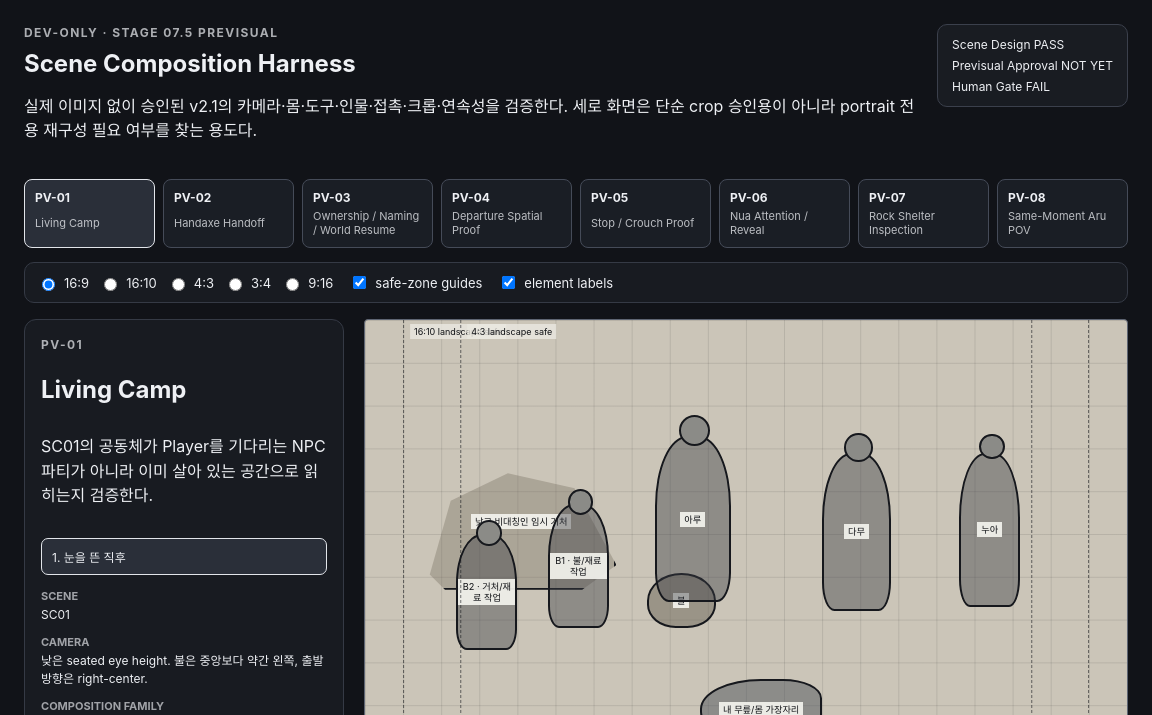
Stage075PrevisualHarness › makes the handoff a three-beat ownership transfer with a shared-contact frame
This screenshot has width=1152, height=715.
Click the button with test id "previsual-case-PV-02": [228, 214] box [163, 179, 294, 248]
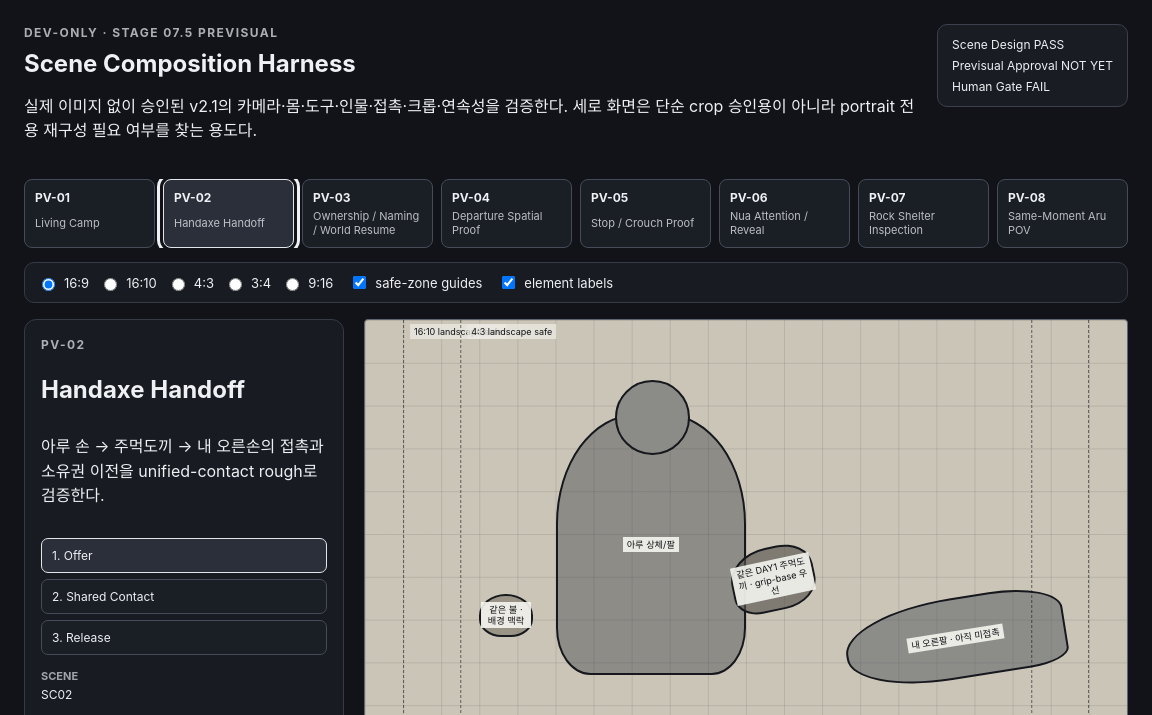
Click the button with test id "previsual-frame-pv02-contact": [110, 597] box [41, 579, 327, 614]
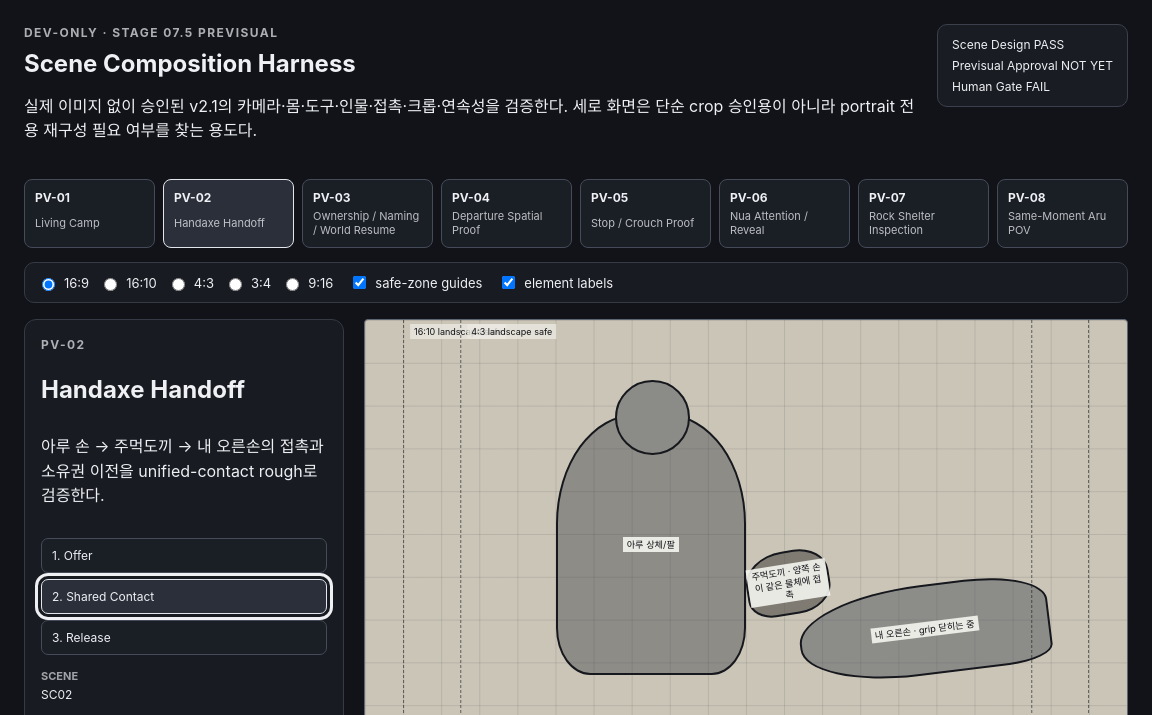
Now the element with test id "previsual-element-handaxe-contact" is shown, box [742, 545, 834, 622]
Now the element with test id "previsual-element-player-right-contact" is shown, box [795, 570, 1055, 690]
